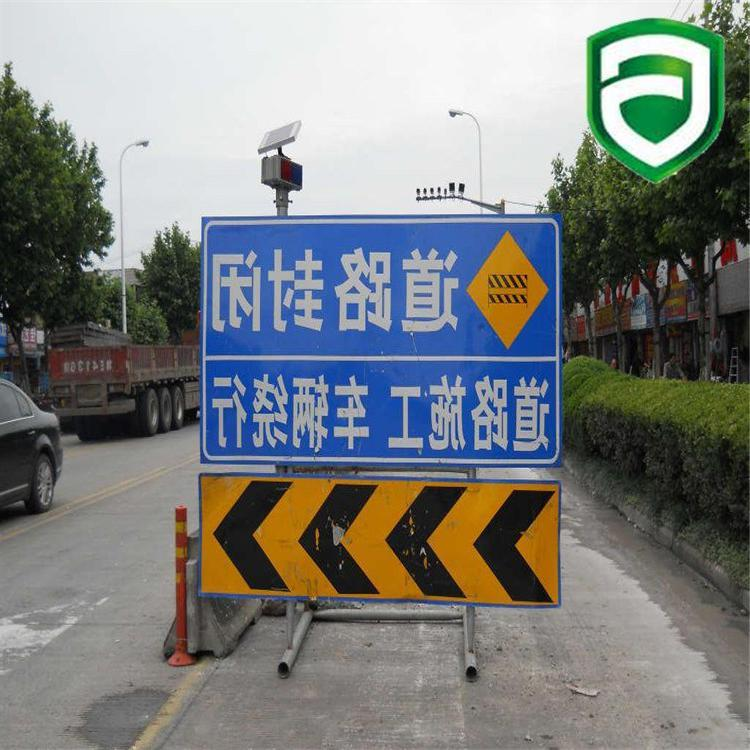sign: (195, 214, 564, 607)
